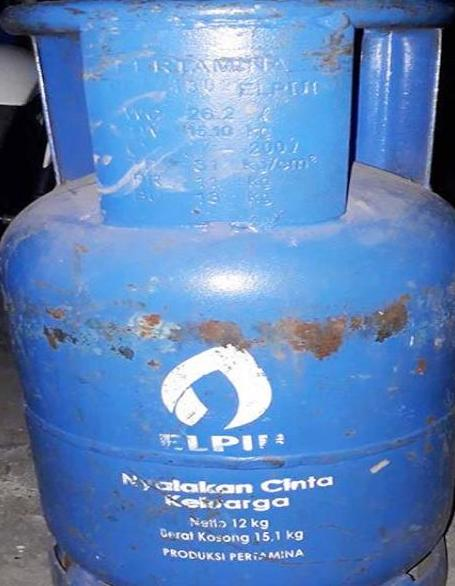cylinder: (1, 0, 455, 586)
